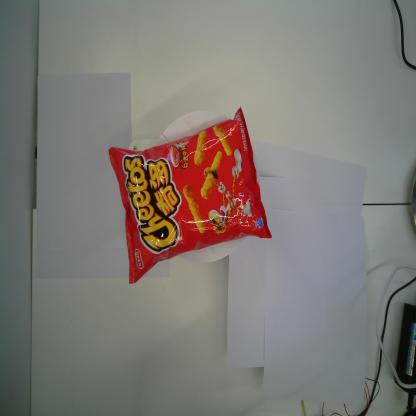Puffed Food: (108, 107, 273, 284)
